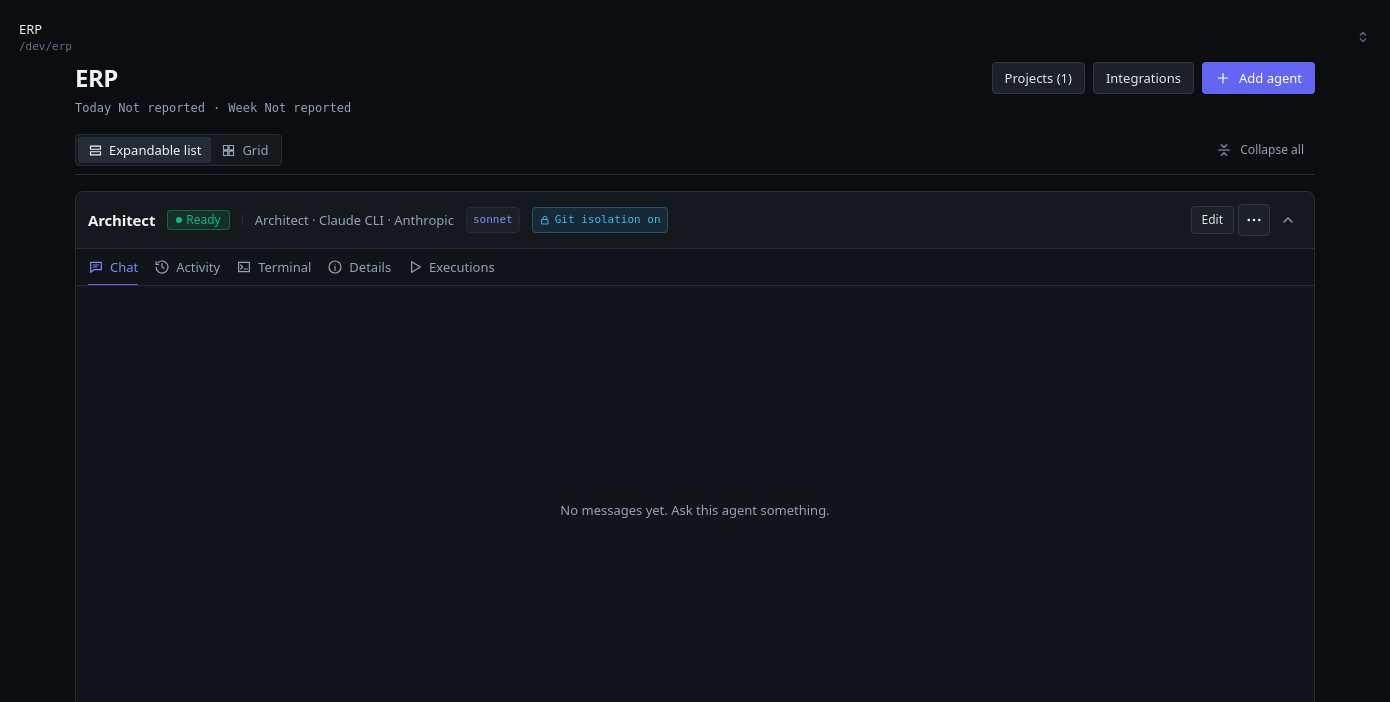
Workspace Harness status › shows how far the Harness can be trusted, and why
Click the button with aria-label "Manage the projects of ERP" at {"x": 1038, "y": 78}, box [992,62,1085,94]
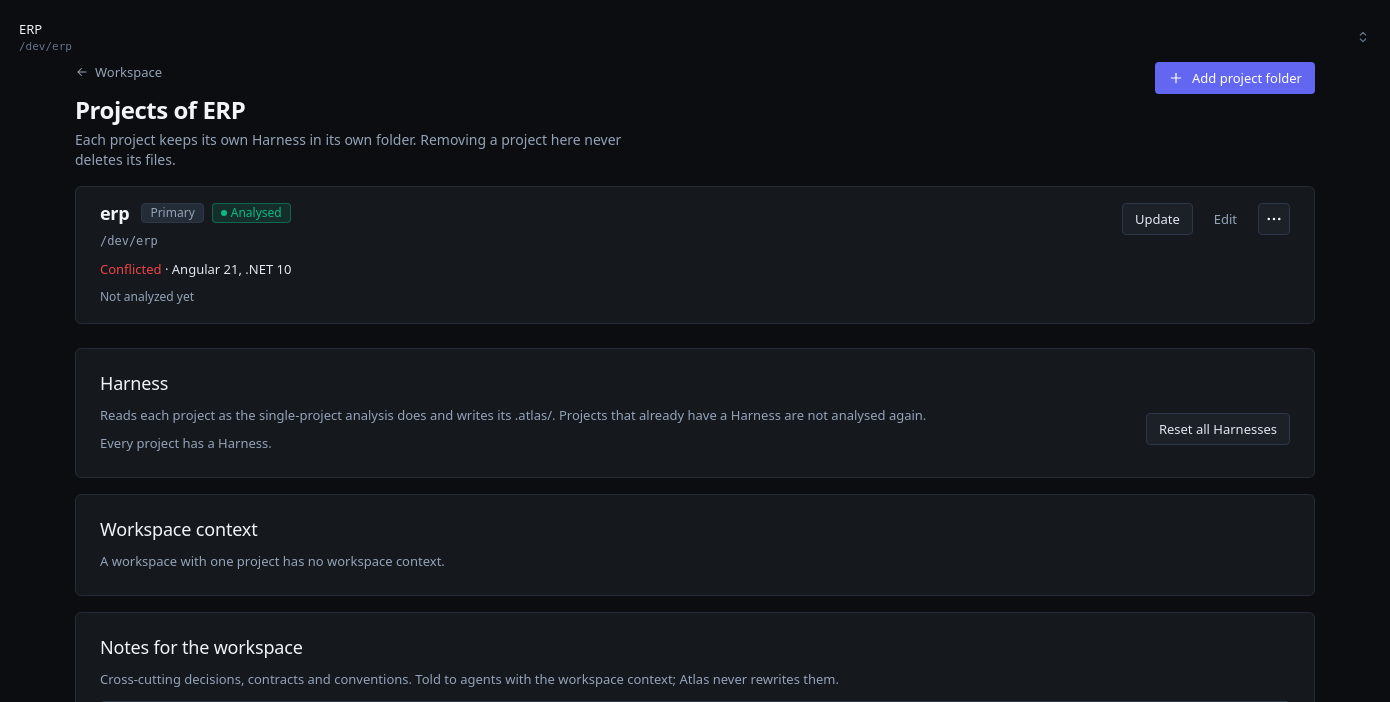
expect the element named "Health: Conflicted" reads "Conflicted": met, box [100,260,162,278]
